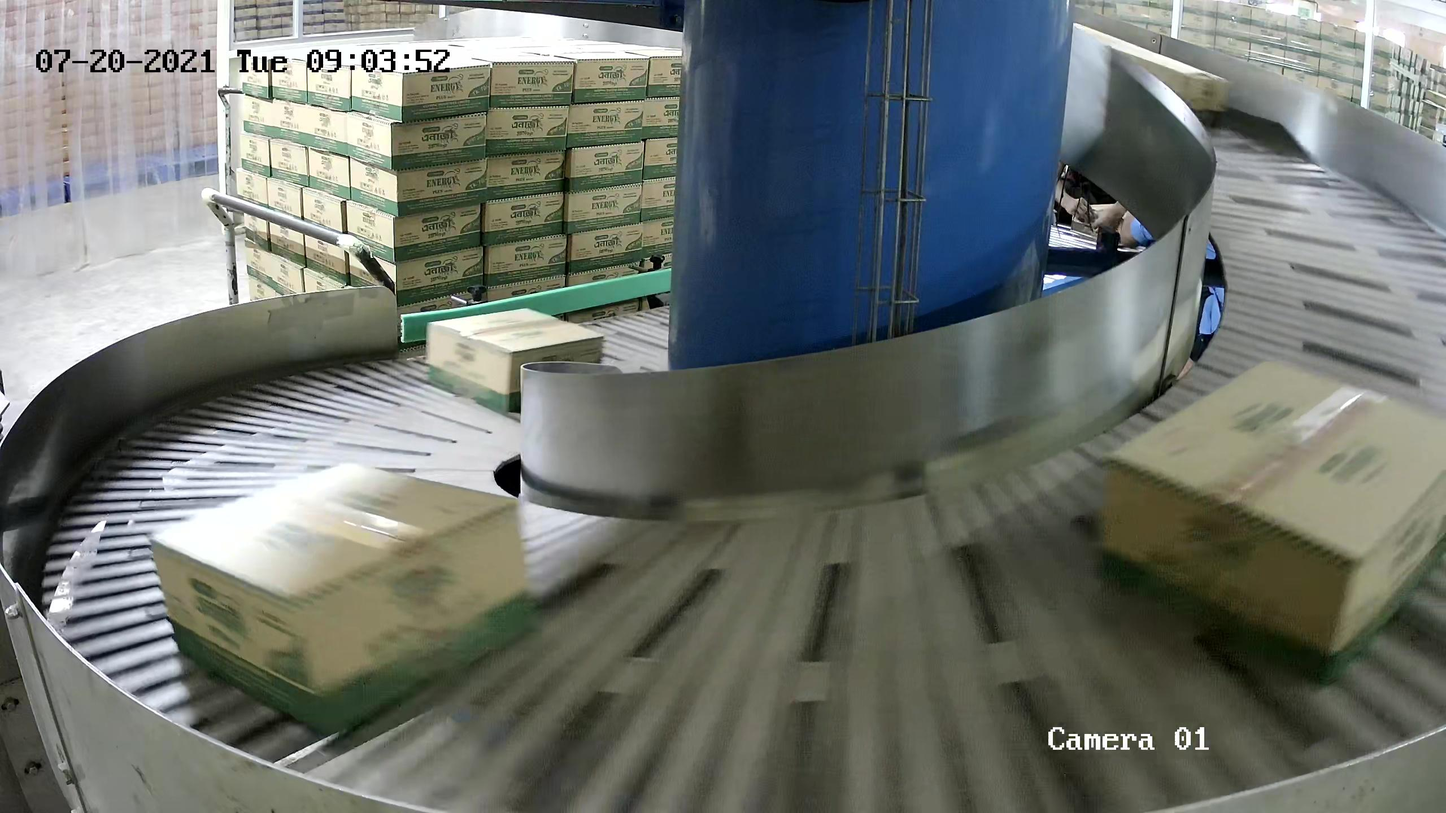Box: (1096, 355, 1446, 687), (146, 460, 539, 736), (426, 307, 605, 415), (1069, 22, 1232, 130)
